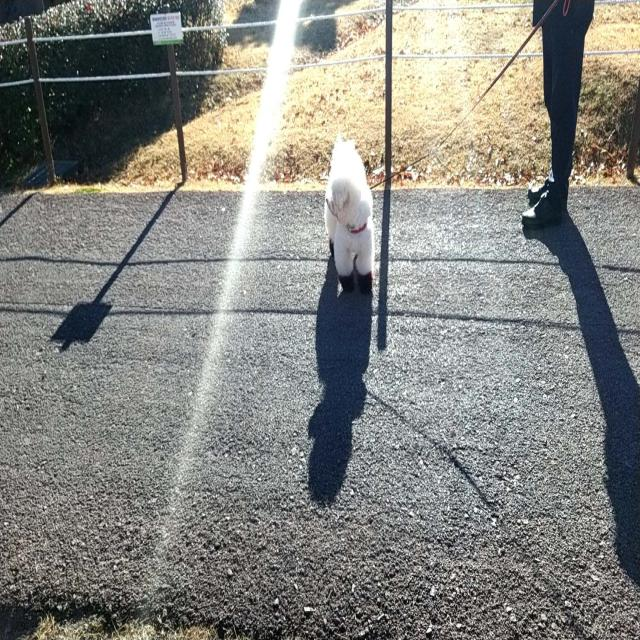Leashed_Dog: (324, 0, 571, 293)
